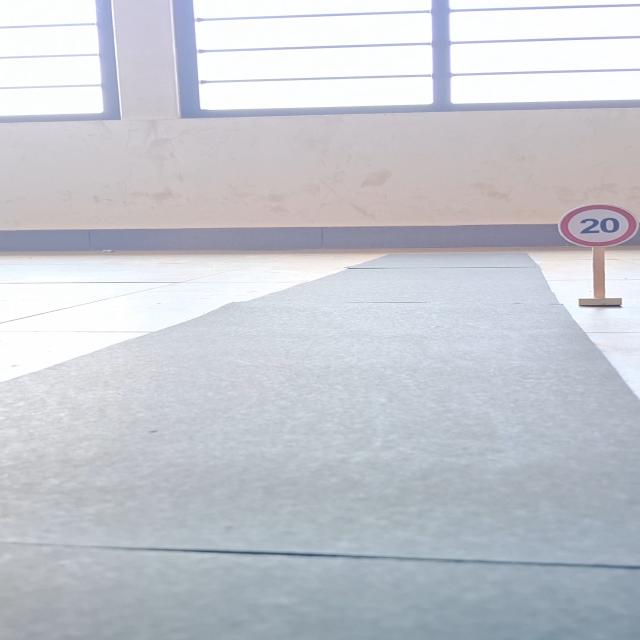Speed20: (551, 200, 640, 248)
